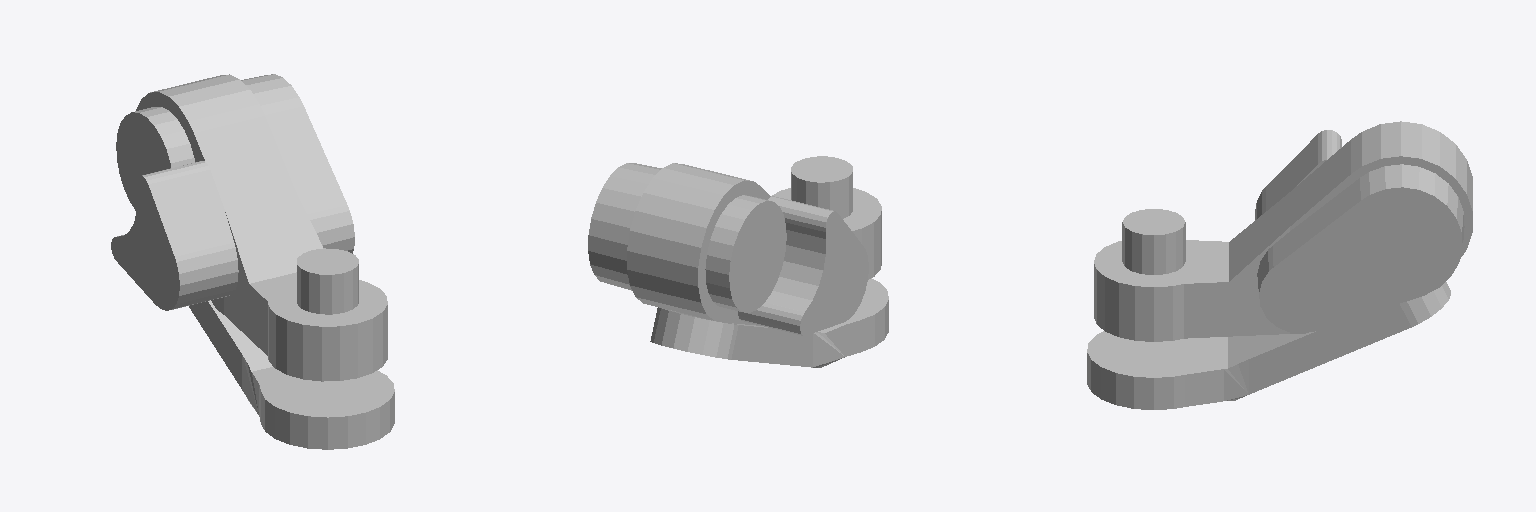
File: RWP.obj
3 renders of one model, left to right at view 1: azimuth 30°, elevation 25°; view 2: azimuth 150°, elevation 25°; view 3: azimuth 270°, elevation 25°, orthographic.
Visible parts, largest first — view 1: Shape_IndexedFaceSet.003_Shape_IndexedFaceSet.073, Shape_IndexedFaceSet.004_Shape_IndexedFaceSet.074, Shape_IndexedFaceSet.001_Shape_IndexedFaceSet.071, Shape_IndexedFaceSet.002_Shape_IndexedFaceSet.072, Shape_IndexedFaceSet_Shape_IndexedFaceSet.070; view 2: Shape_IndexedFaceSet.003_Shape_IndexedFaceSet.073, Shape_IndexedFaceSet.004_Shape_IndexedFaceSet.074, Shape_IndexedFaceSet.001_Shape_IndexedFaceSet.071, Shape_IndexedFaceSet_Shape_IndexedFaceSet.070, Shape_IndexedFaceSet.002_Shape_IndexedFaceSet.072; view 3: Shape_IndexedFaceSet.003_Shape_IndexedFaceSet.073, Shape_IndexedFaceSet.002_Shape_IndexedFaceSet.072, Shape_IndexedFaceSet.001_Shape_IndexedFaceSet.071, Shape_IndexedFaceSet.004_Shape_IndexedFaceSet.074.
Part boxes in pixels (x1,y1,x2,y2): Shape_IndexedFaceSet.003_Shape_IndexedFaceSet.073: (136,74,387,381); Shape_IndexedFaceSet.004_Shape_IndexedFaceSet.074: (111,161,238,310); Shape_IndexedFaceSet.001_Shape_IndexedFaceSet.071: (189,300,394,449); Shape_IndexedFaceSet.002_Shape_IndexedFaceSet.072: (241,74,354,253); Shape_IndexedFaceSet_Shape_IndexedFaceSet.070: (116,107,194,211); Shape_IndexedFaceSet.003_Shape_IndexedFaceSet.073: (627,156,881,325); Shape_IndexedFaceSet.004_Shape_IndexedFaceSet.074: (738,196,868,335); Shape_IndexedFaceSet.001_Shape_IndexedFaceSet.071: (650,278,888,367); Shape_IndexedFaceSet_Shape_IndexedFaceSet.070: (705,195,786,312); Shape_IndexedFaceSet.002_Shape_IndexedFaceSet.072: (588,163,661,290); Shape_IndexedFaceSet.003_Shape_IndexedFaceSet.073: (1094,121,1472,341); Shape_IndexedFaceSet.002_Shape_IndexedFaceSet.072: (1257,164,1464,333); Shape_IndexedFaceSet.001_Shape_IndexedFaceSet.071: (1087,282,1450,409); Shape_IndexedFaceSet.004_Shape_IndexedFaceSet.074: (1255,130,1341,219).
Size of the model in its own units: 0.0745 by 0.0978 by 0.1407.